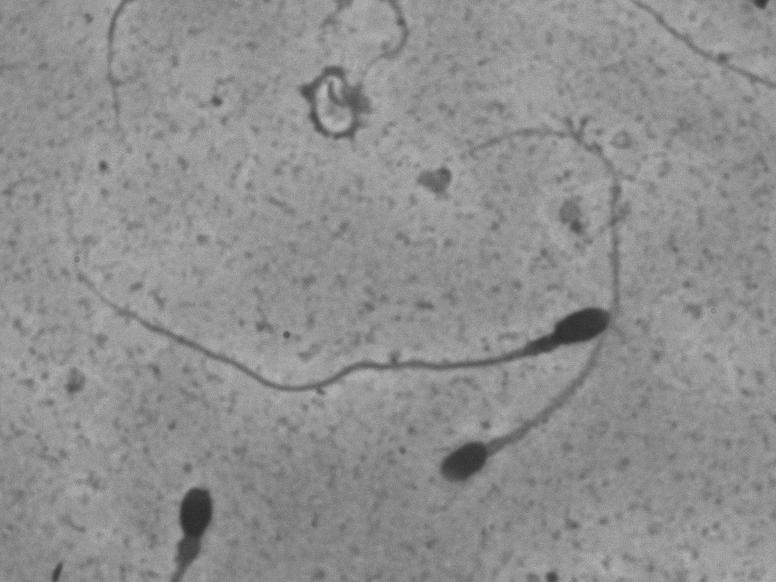Abnormal: (44, 185, 617, 400), (381, 393, 616, 526), (127, 475, 259, 571)
